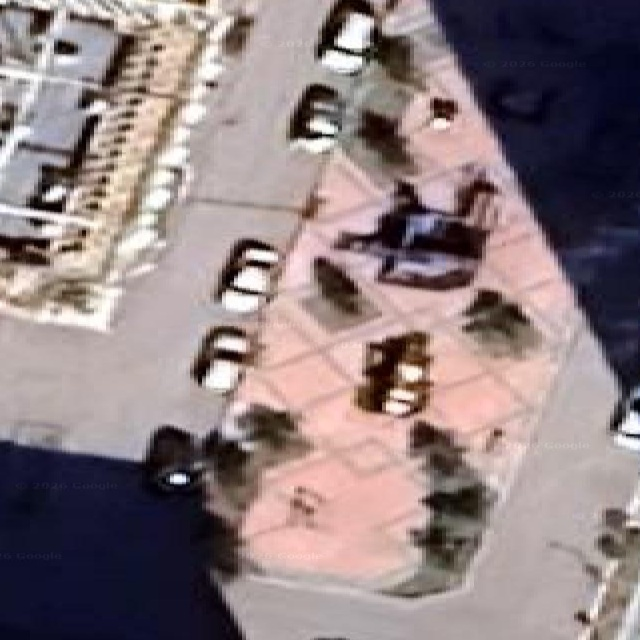car: (334, 187, 496, 289), (215, 240, 279, 313), (316, 0, 376, 74), (192, 327, 251, 394), (144, 425, 201, 492), (289, 84, 343, 153), (488, 78, 555, 123), (312, 256, 360, 313), (611, 387, 639, 450), (429, 97, 457, 130)
